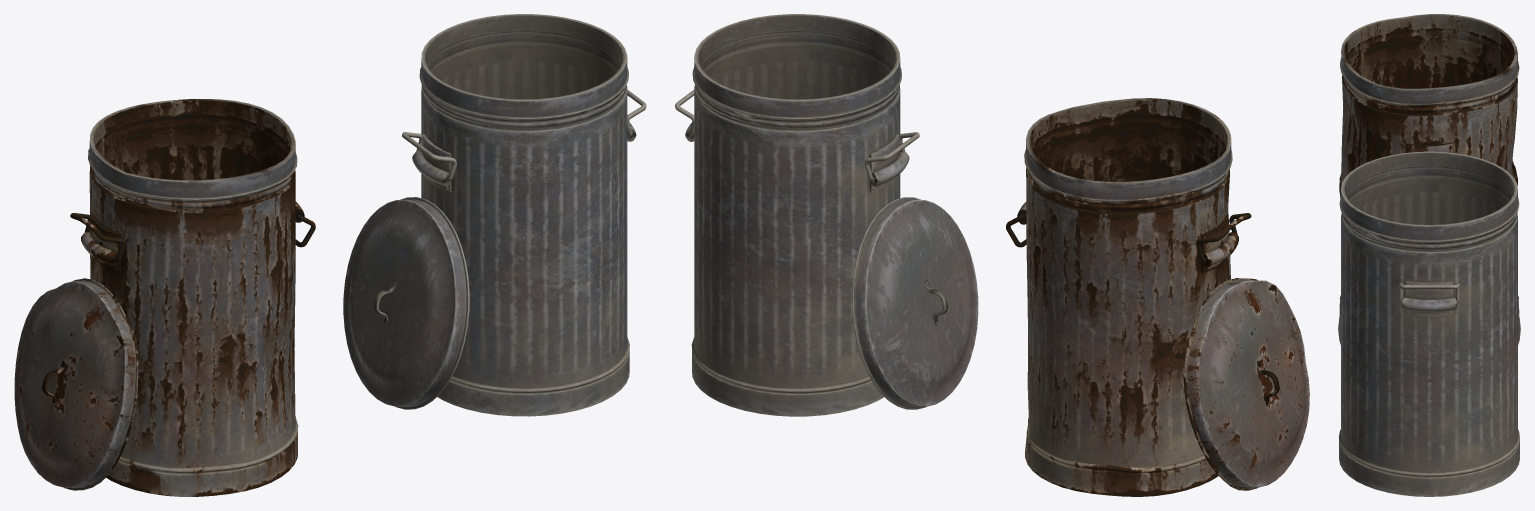
The model's file is metal_trash_can.glb.
3 views of the same model, side by side, from view 1: azimuth 30°, elevation 25°; view 2: azimuth 150°, elevation 25°; view 3: azimuth 270°, elevation 25° (orthographic). The views are drawn at different scales.
Parts seen in each view (by area): view 1: metal_trash_can, metal_trash_can_rust, metal_trash_can_lid, metal_trash_can_rust_lid; view 2: metal_trash_can, metal_trash_can_rust, metal_trash_can_lid, metal_trash_can_rust_lid; view 3: metal_trash_can, metal_trash_can_rust, metal_trash_can_handle_right.
Boxes of the visible parts, x1,y1,x2,y2 form: metal_trash_can: (412, 14, 636, 416); metal_trash_can_rust: (81, 99, 304, 496); metal_trash_can_lid: (343, 197, 469, 409); metal_trash_can_rust_lid: (14, 278, 138, 490); metal_trash_can: (685, 14, 909, 416); metal_trash_can_rust: (1017, 98, 1238, 496); metal_trash_can_lid: (852, 197, 978, 409); metal_trash_can_rust_lid: (1183, 278, 1309, 490); metal_trash_can: (1338, 151, 1519, 496); metal_trash_can_rust: (1339, 14, 1519, 316); metal_trash_can_handle_right: (1399, 283, 1459, 303).
Size of the model in its own units: 1.78 by 0.9062 by 0.5563.
Materials: 2 (2 with a texture image).
